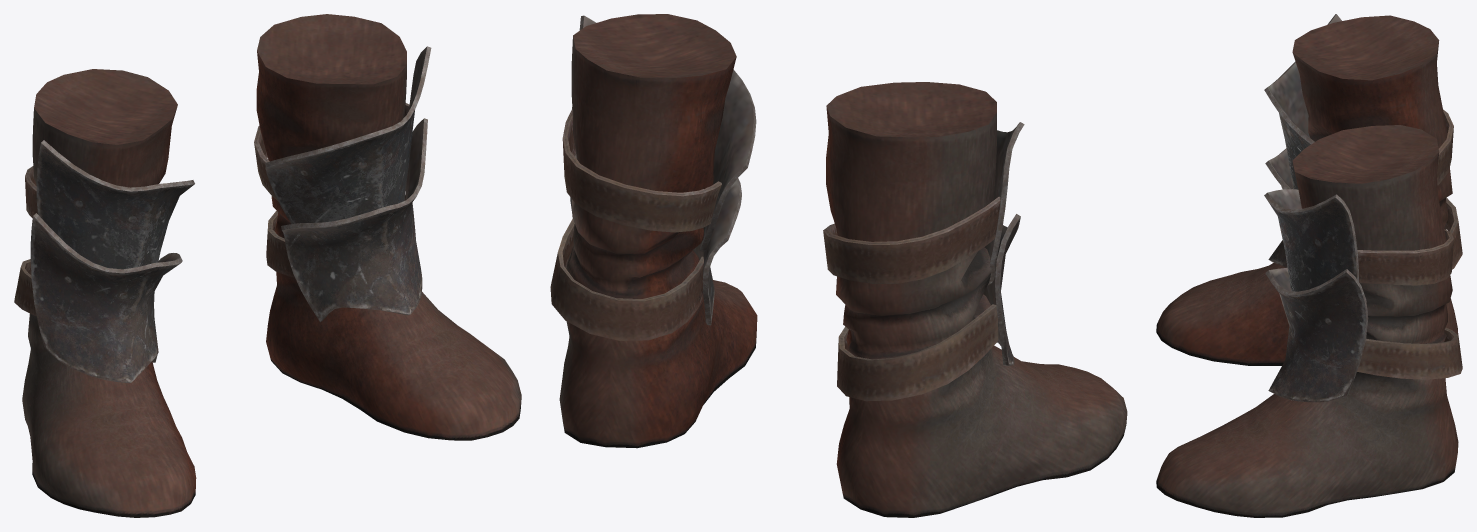
File: sk_dg_uruk_boots_med_c.fbx
3 views of the same model, side by side, from view 1: azimuth 30°, elevation 25°; view 2: azimuth 150°, elevation 25°; view 3: azimuth 270°, elevation 25° (orthographic). The views are drawn at different scales.
Parts seen in each view (by area): view 1: sk_dg_uruk_boots_med_c.0, sk_dg_uruk_boots_med_c.1; view 2: sk_dg_uruk_boots_med_c.0, sk_dg_uruk_boots_med_c.1; view 3: sk_dg_uruk_boots_med_c.0, sk_dg_uruk_boots_med_c.1.
Part boxes in pixels (box(x1,y1,x2,y2)): sk_dg_uruk_boots_med_c.0: box(22, 14, 521, 517); sk_dg_uruk_boots_med_c.1: box(14, 103, 409, 316); sk_dg_uruk_boots_med_c.0: box(559, 14, 1127, 517); sk_dg_uruk_boots_med_c.1: box(550, 109, 1000, 401); sk_dg_uruk_boots_med_c.0: box(1156, 14, 1458, 517); sk_dg_uruk_boots_med_c.1: box(1357, 109, 1462, 379).
Size of the model in its own units: 0.5637 by 0.3407 by 0.389.
Materials: 2 (2 with a texture image).
